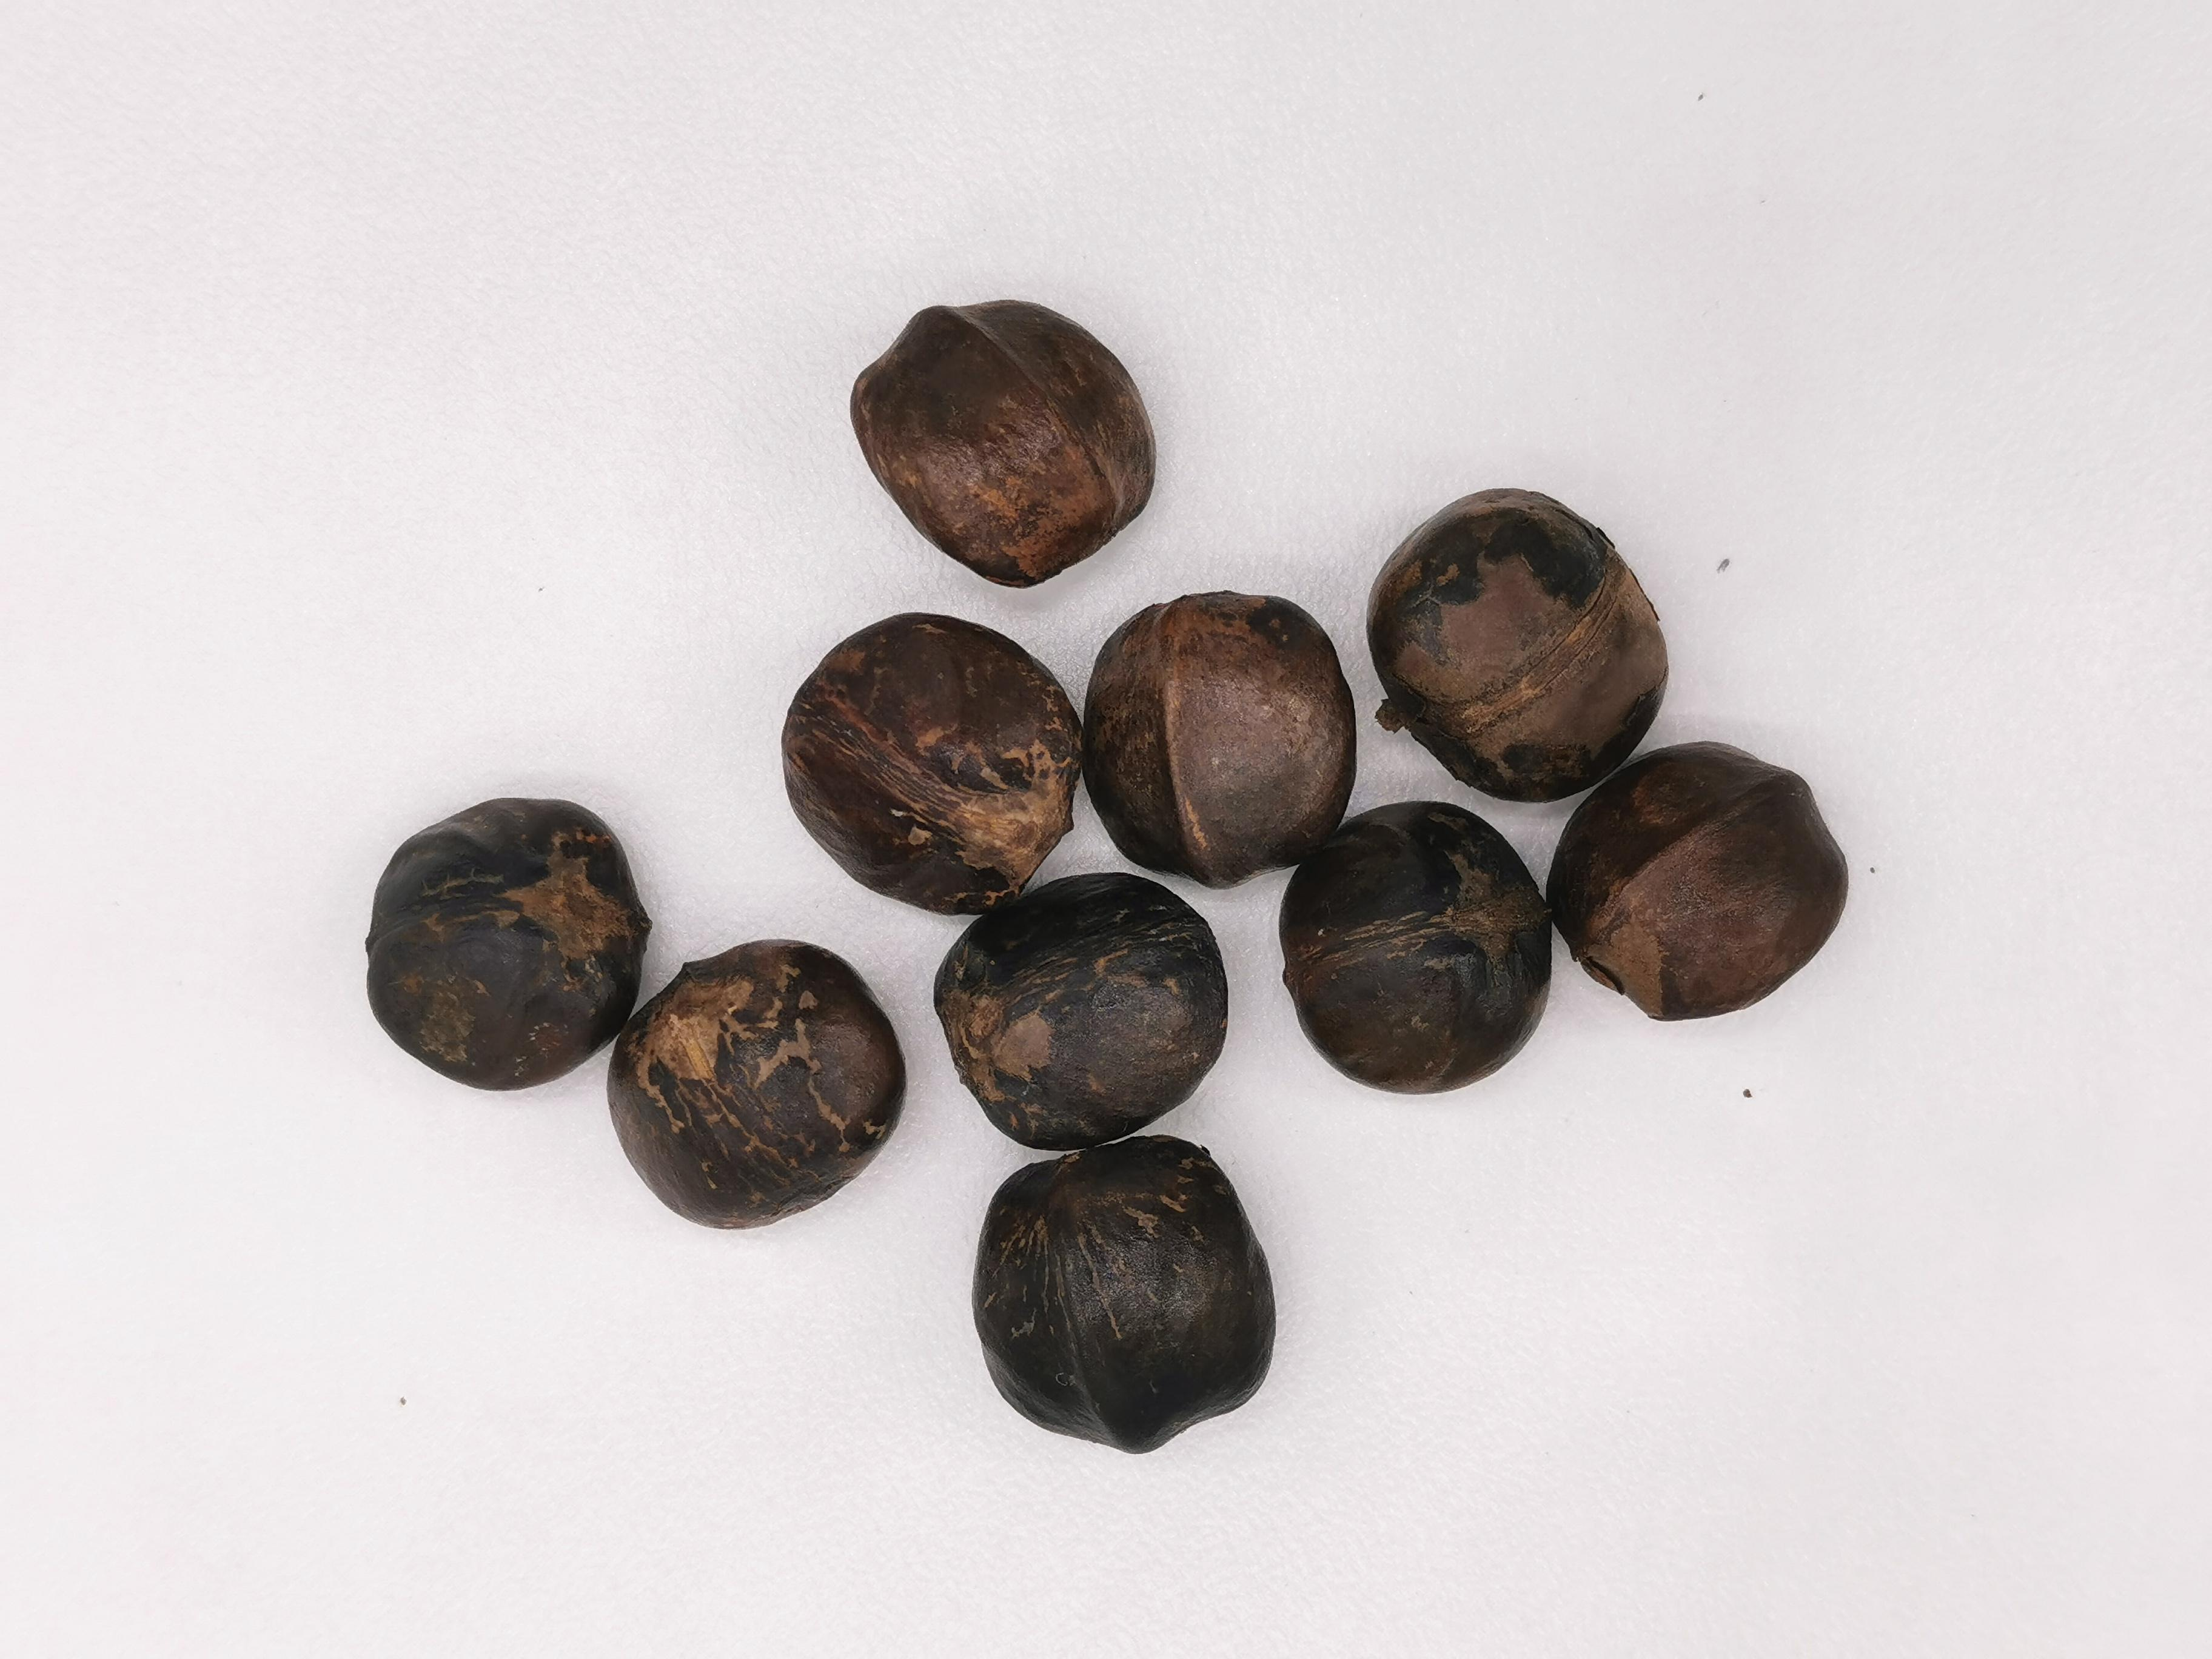seed: (948, 1133, 1278, 1471), (1353, 465, 1681, 807), (829, 281, 1176, 594), (1540, 720, 1872, 1032), (768, 601, 1073, 922), (359, 789, 664, 1098), (604, 929, 904, 1232), (1264, 789, 1548, 1101), (1080, 579, 1353, 885), (925, 866, 1231, 1140)
